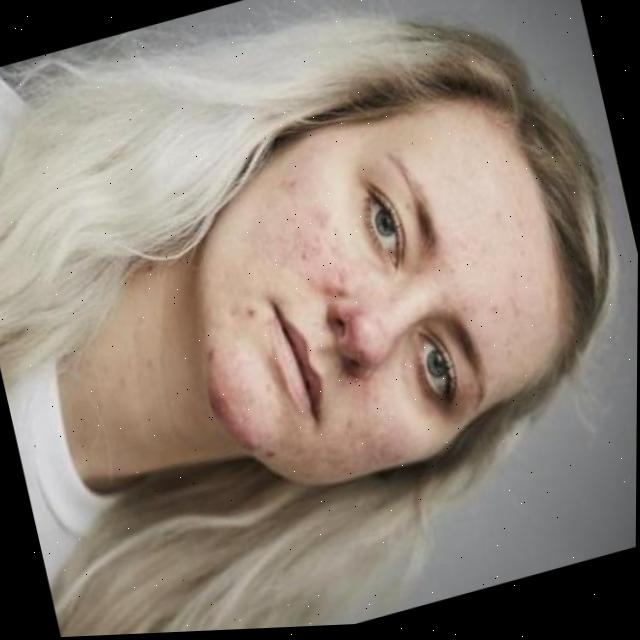Acne: (256, 167, 356, 274), (193, 354, 270, 449)
